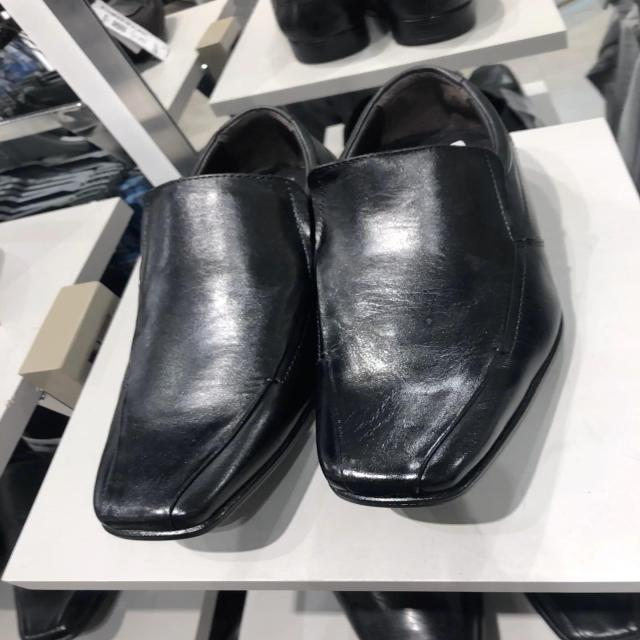shoe: (304, 141, 556, 513), (92, 171, 320, 544)
